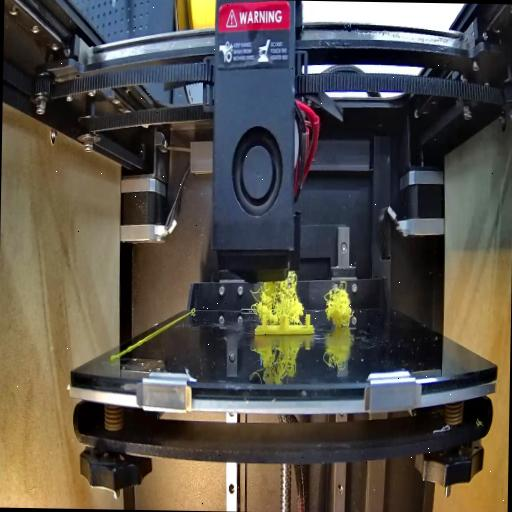spaghetti: (252, 268, 304, 322), (321, 281, 356, 329)
